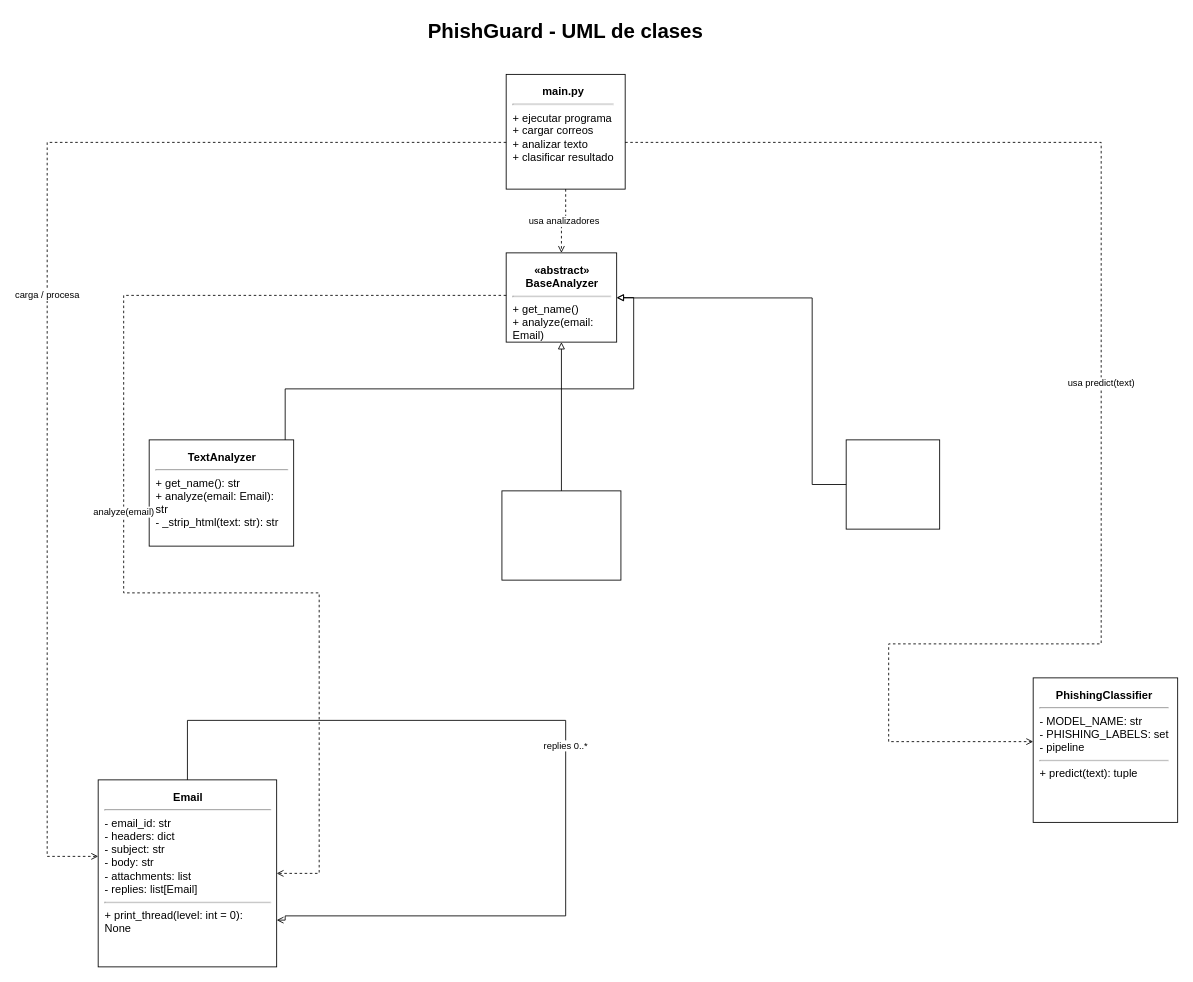
The diagram is 1193 pixels wide and 982 high, and some of its shapes have lost their labels. The centre of each missing label's shape, as x and y in pixels:
"AttachmentAnalyzer + get_name() + analyze(email)" goes at (x=561, y=535).
"URLAnalyzer + get_name() + analyze(email)" goes at (x=892, y=484).
